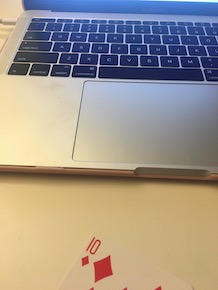TenOfDiamonds: (52, 230, 195, 290)
